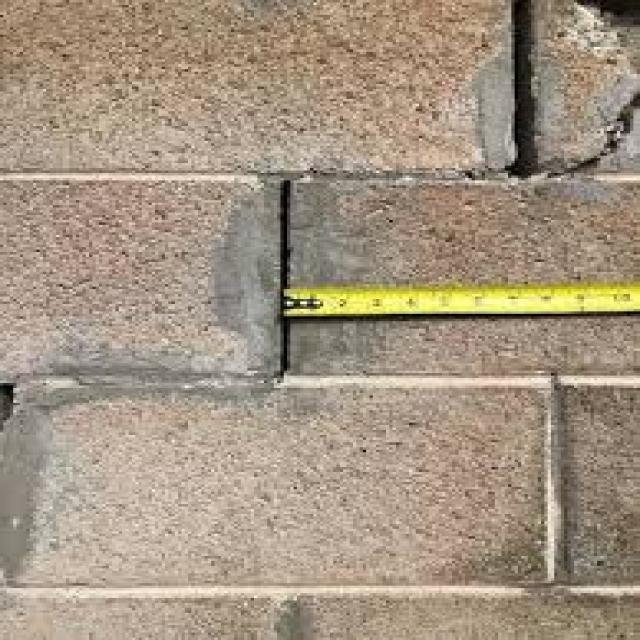Crack: (264, 0, 637, 381)
